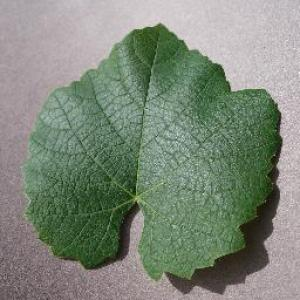Folha: (20, 21, 282, 281)
